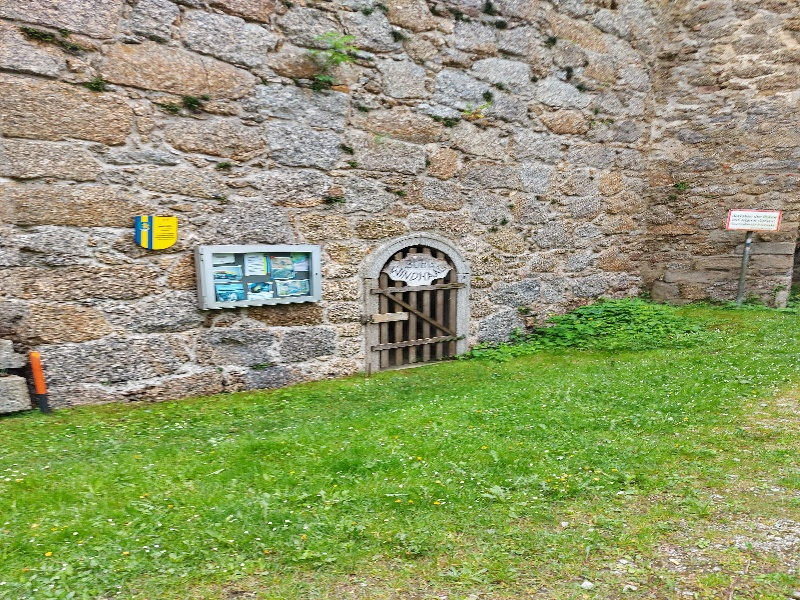dungeon: (355, 228, 476, 379)
